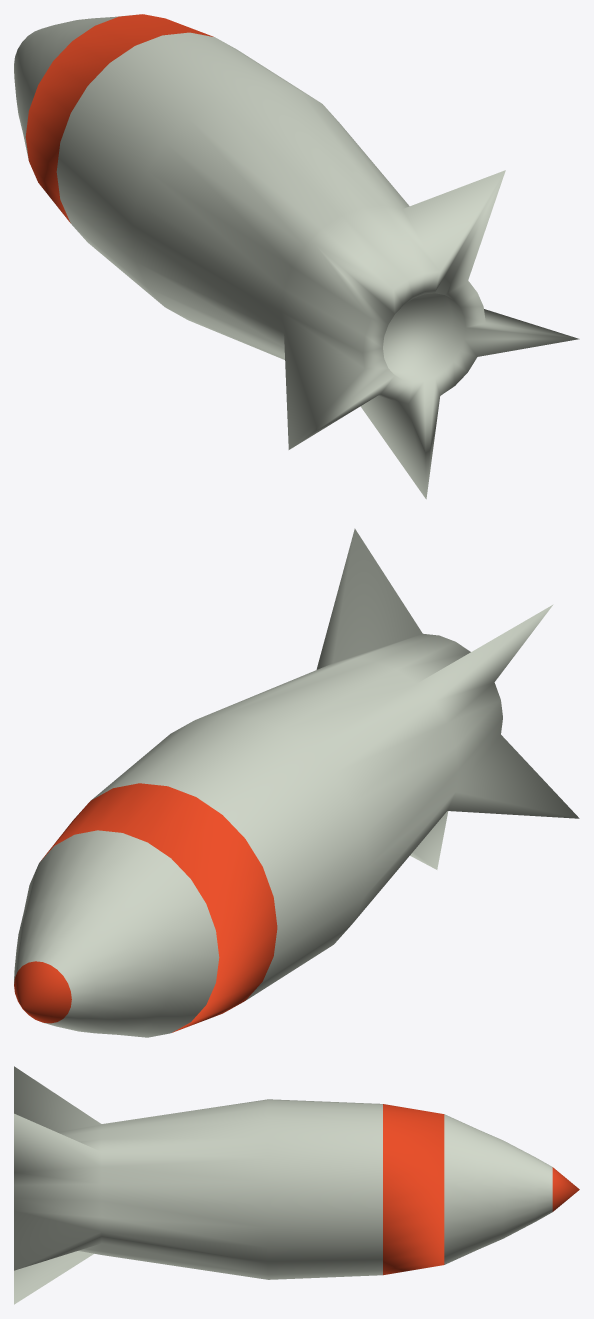
File: missile.glb
3 views of the same model, one above another, from view 1: azimuth 30°, elevation 25°; view 2: azimuth 150°, elevation 25°; view 3: azimuth 270°, elevation 25° (orthographic). The views are drawn at different scales.
Visible parts, largest first — view 1: Cylinder.001, Cylinder.005, Cylinder.002; view 2: Cylinder.001, Cylinder.002, Cylinder.005, Cylinder.004; view 3: Cylinder.001, Cylinder.002, Cylinder.005, Cylinder.004.
Boxes of the visible parts, box(x1,y1,x2,y2) form: Cylinder.001: box(56, 32, 579, 499); Cylinder.005: box(25, 14, 213, 222); Cylinder.002: box(14, 14, 139, 159); Cylinder.001: box(92, 528, 579, 1000); Cylinder.002: box(14, 830, 219, 1037); Cylinder.005: box(41, 783, 277, 1032); Cylinder.004: box(14, 961, 71, 1023); Cylinder.001: box(14, 1066, 382, 1304); Cylinder.002: box(444, 1114, 552, 1264); Cylinder.005: box(383, 1104, 444, 1275); Cylinder.004: box(552, 1167, 579, 1211).
Bounding box in the file's own units: 0.4266 × 0.4345 × 1.02.
